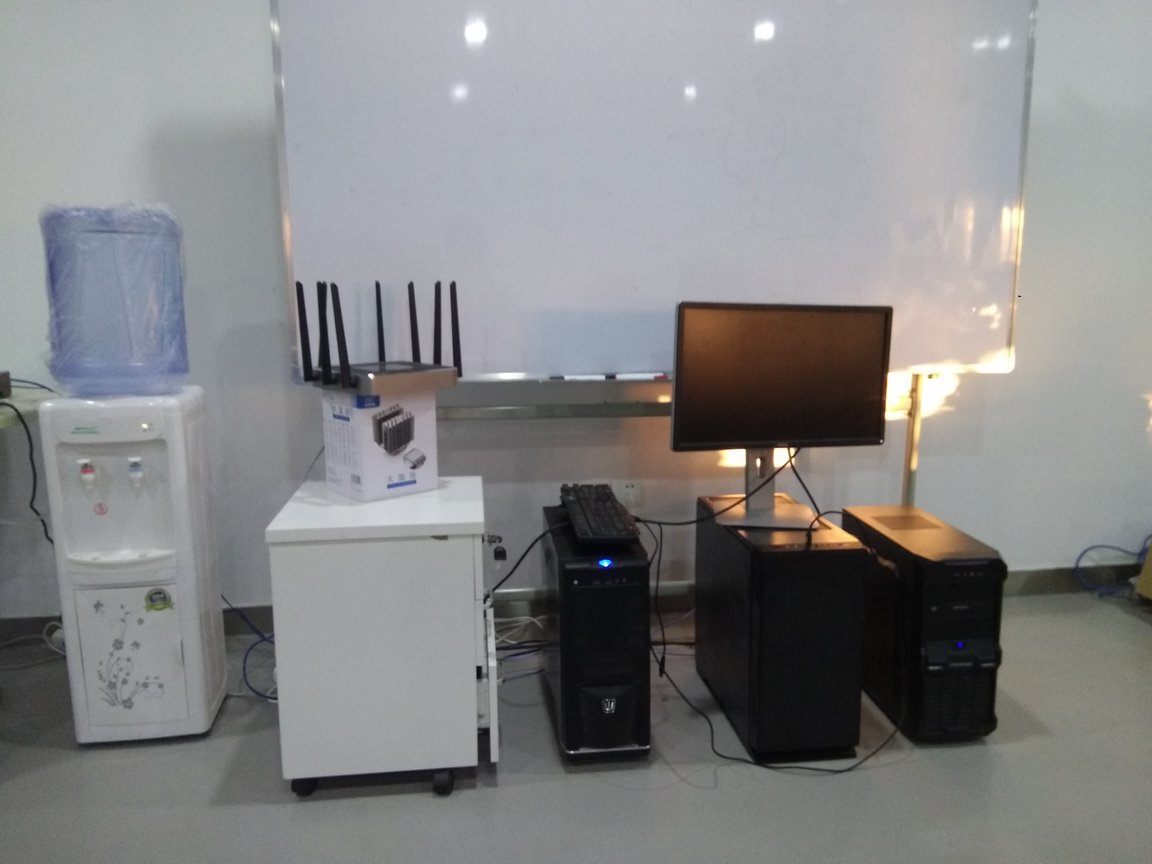computer: (695, 482, 871, 773), (829, 500, 1004, 754), (543, 499, 663, 782)
drawer chest: (263, 471, 497, 811)
monitor: (659, 295, 898, 536)
scuttlebutt: (22, 194, 206, 399)
water dispenser: (40, 391, 223, 757)
